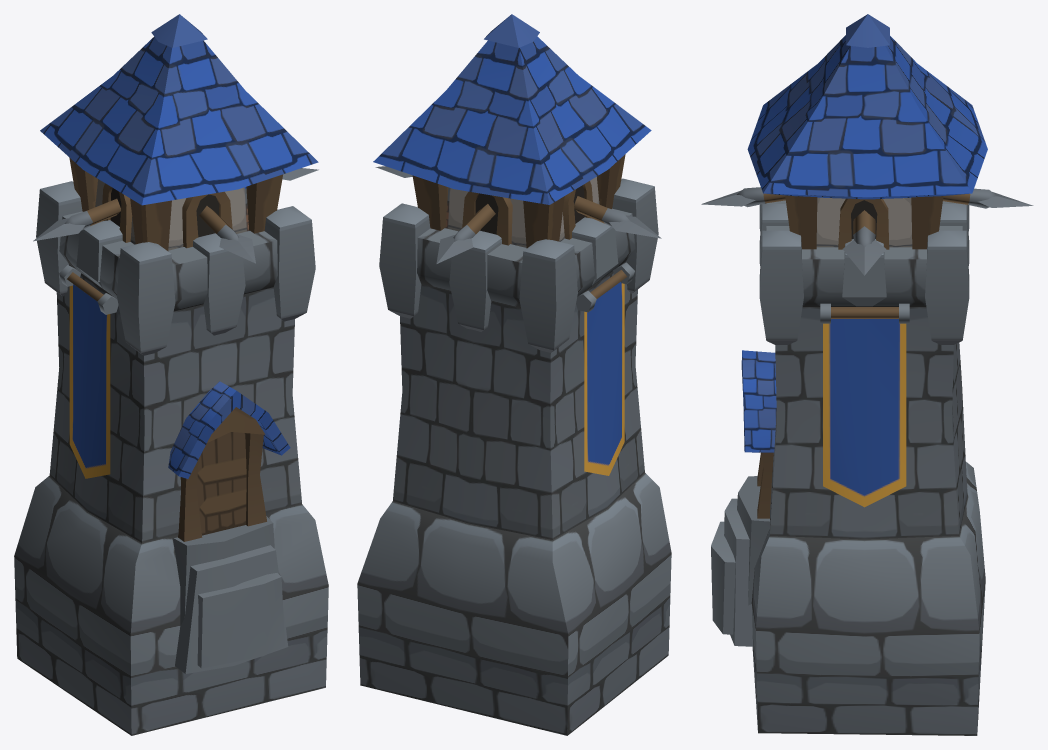
Rendered from Tower_C.FBX.
The picture shows the model from 3 angles, left to right: view 1: azimuth 30°, elevation 25°; view 2: azimuth 150°, elevation 25°; view 3: azimuth 270°, elevation 25°; orthographic projection. The views are drawn at different scales.
Parts seen in each view (by area): view 1: Tower_C; view 2: Tower_C; view 3: Tower_C.
Part boxes in pixels (x1=…): Tower_C: x1=14, y1=14, x2=328, y2=735; Tower_C: x1=357, y1=14, x2=671, y2=735; Tower_C: x1=701, y1=14, x2=1033, y2=735.
Size of the model in its own units: 469 by 1026 by 461.
